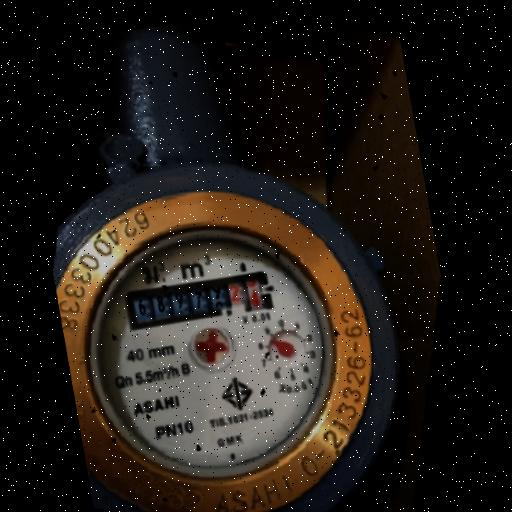2: (227, 281, 245, 307)
4: (244, 275, 264, 309)
6: (131, 295, 151, 322)
7: (189, 287, 208, 312)
8: (152, 293, 171, 319)
9: (171, 290, 189, 316), (210, 285, 228, 310)
border_water_meter_number: (123, 259, 277, 341)
